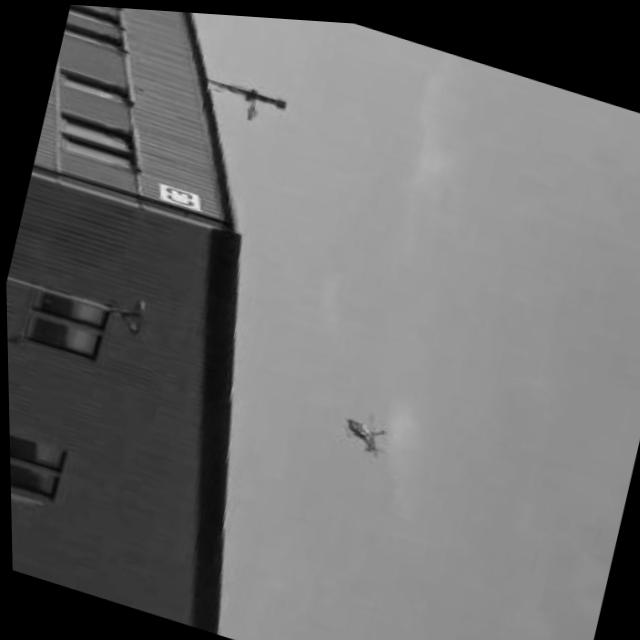helikopter: (322, 396, 402, 462)
